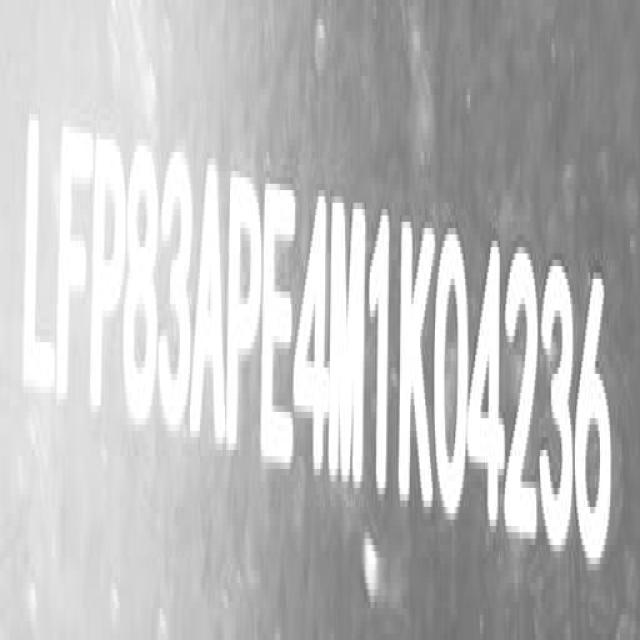0: (434, 197, 468, 535)
1: (369, 181, 392, 500)
2: (505, 249, 540, 542)
3: (159, 138, 194, 446), (540, 246, 574, 554)
4: (466, 249, 506, 542), (294, 187, 329, 478)
6: (574, 272, 612, 568)
8: (125, 148, 161, 429)
A: (191, 160, 226, 462)
E: (262, 176, 296, 469)
F: (58, 122, 93, 415)
K: (396, 200, 436, 526)
L: (19, 110, 54, 411)
M: (329, 200, 365, 490)
P: (226, 162, 262, 448), (91, 122, 126, 413)
